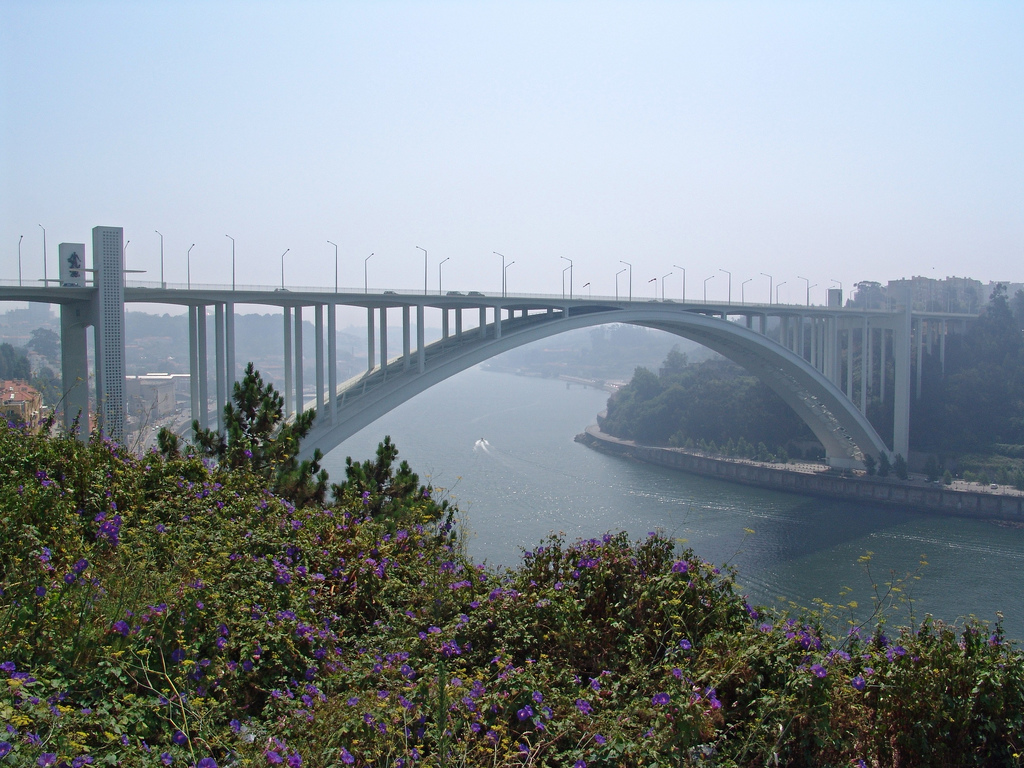arrabida: (0, 224, 985, 476)
